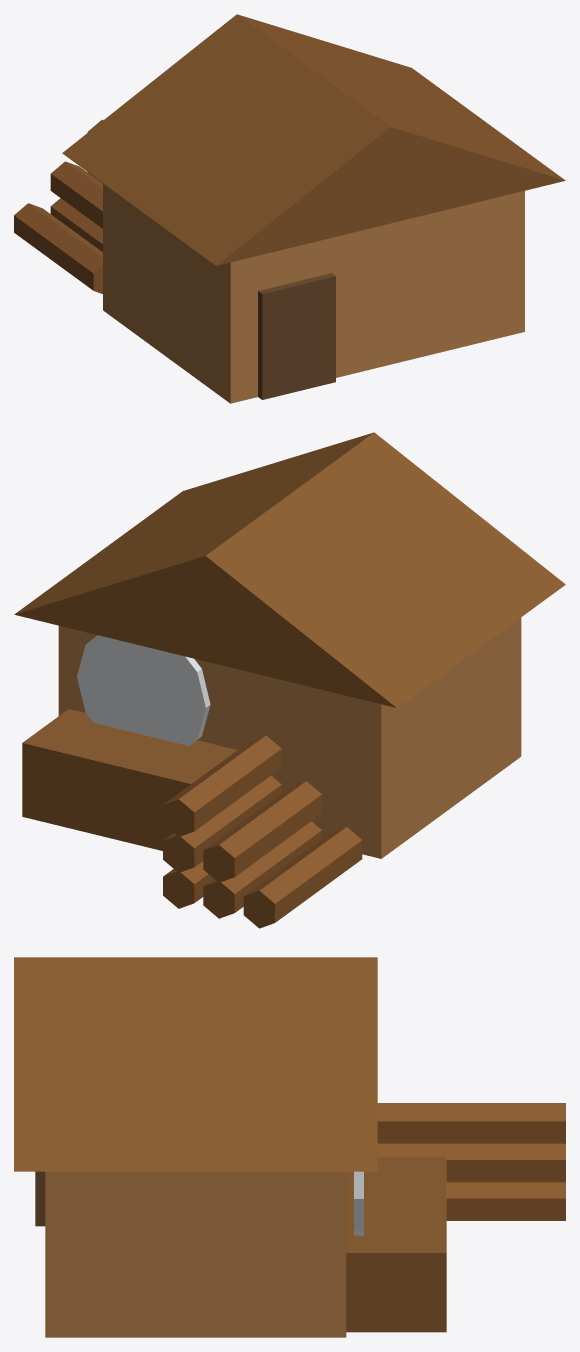
The model's file is sawmill.glb.
3 renders of one model, top to bottom at view 1: azimuth 30°, elevation 25°; view 2: azimuth 150°, elevation 25°; view 3: azimuth 270°, elevation 25°, orthographic. The views are drawn at different scales.
Parts seen in each view (by area): view 1: madeira_escura.008, madeira.006, porta.009, tronco.002; view 2: madeira_escura.008, madeira.006, tronco.002, cinza_claro.004; view 3: madeira_escura.008, madeira.006, tronco.002, cinza_claro.004, porta.009.
Part boxes in pixels (x1,y1,x2,y2): madeira_escura.008: (62,14,565,265); madeira.006: (103,183,524,403); porta.009: (258,273,335,399); tronco.002: (14,119,103,293); madeira_escura.008: (14,432,565,850); madeira.006: (58,617,521,858); tronco.002: (163,735,362,928); cinza_claro.004: (77,635,210,745); madeira_escura.008: (14,957,446,1332); madeira.006: (45,1171,346,1337); tronco.002: (377,1103,565,1220); cinza_claro.004: (354,1171,363,1235); porta.009: (35,1171,45,1226).
Bounding box in the file's own units: 1.9 × 1.3 × 2.2.
